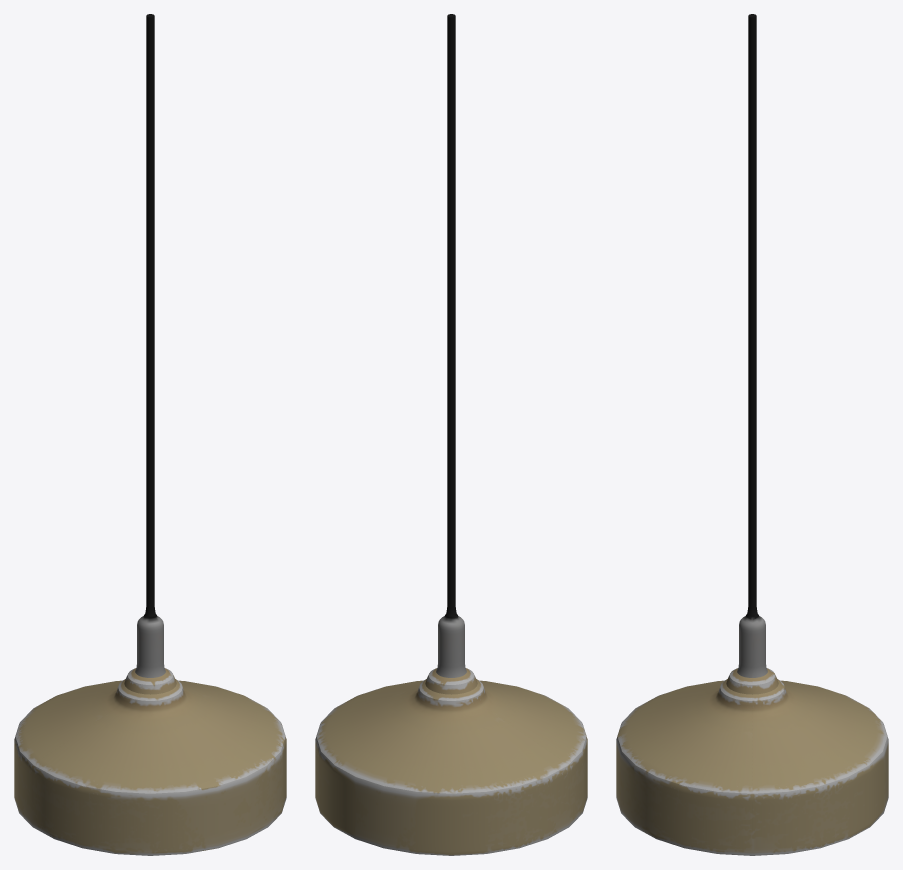
Rendered from bar_ceiling_light_-_2048px2.glb.
3 views of the same model, side by side, from view 1: azimuth 30°, elevation 25°; view 2: azimuth 150°, elevation 25°; view 3: azimuth 270°, elevation 25° (orthographic).
Visible parts, largest first — view 1: BarCounterLamp; view 2: BarCounterLamp; view 3: BarCounterLamp.
Boxes of the visible parts, left/top/right/bottom form: BarCounterLamp: left=14, top=14, right=286, bottom=855; BarCounterLamp: left=315, top=14, right=587, bottom=855; BarCounterLamp: left=616, top=14, right=888, bottom=855.
Bounding box in the file's own units: 0.3821 × 1.25 × 0.3821.
2 materials, 2 textured.
